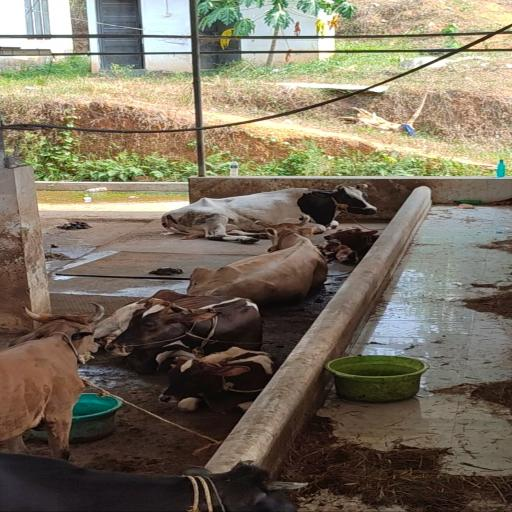cow-resting: (95, 290, 262, 373), (161, 184, 376, 243), (188, 216, 328, 305), (159, 347, 278, 413)
cow-standing: (0, 304, 104, 459), (511, 227, 512, 228)
